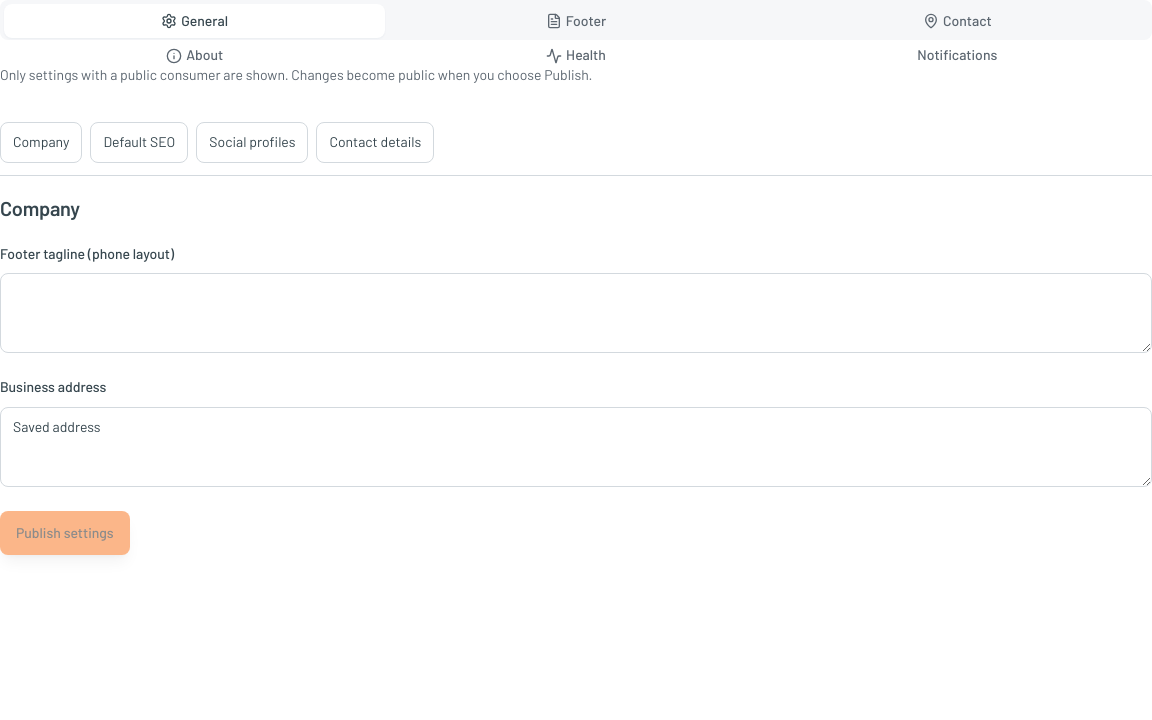
Test: settings save and tab guards › does not claim a settings save succeeded when no row was updated
This screenshot has width=1152, height=720.
Replace the text in the text box labelled "Business address" with "Retained address": (576, 447) [0,407,1151,487]
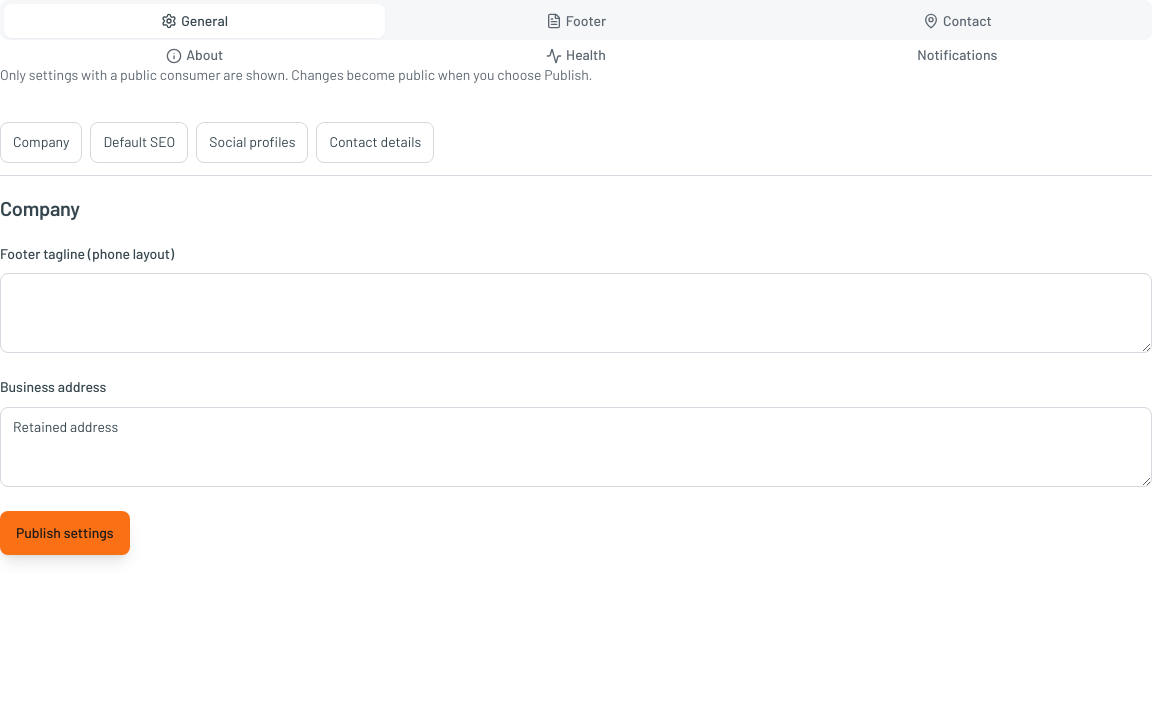
Click the button "Publish settings": click(65, 533) [0,511,130,555]
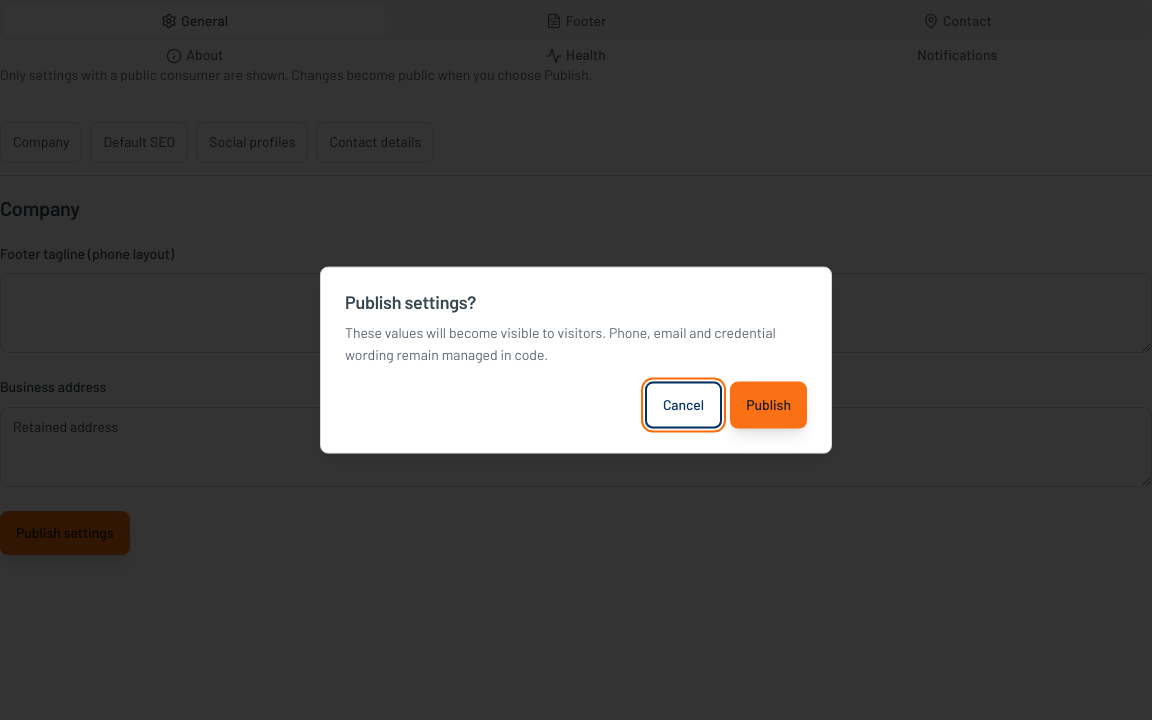
Click the button "Publish": click(769, 405) [730,382,807,428]
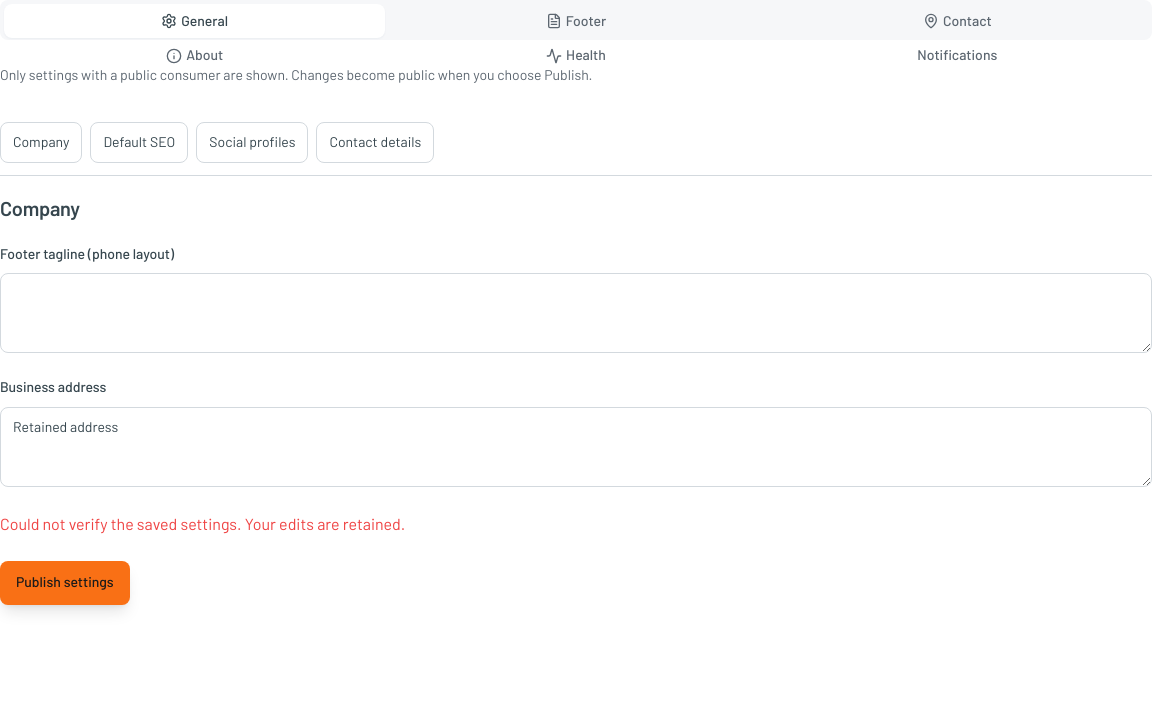
Now the message shows "Could not verify the saved settings", box [0,514,242,533]
Press the mouse on the tab "Contact": (957, 21) [767,4,1148,38]
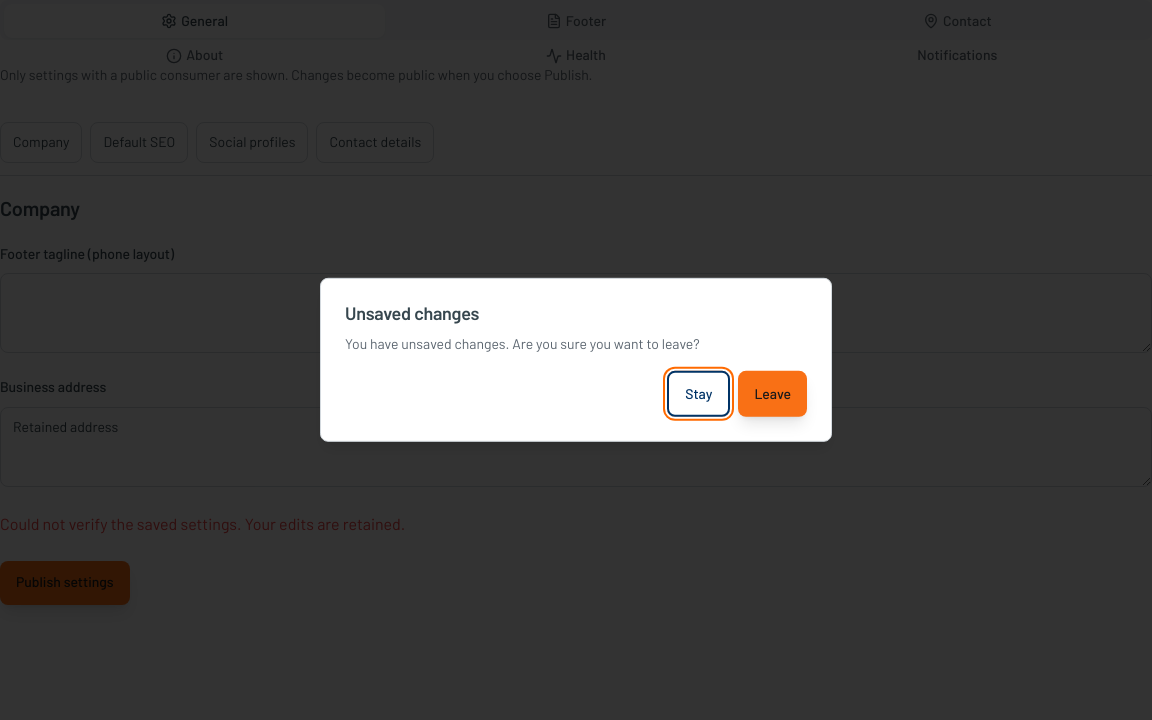
Now the dialog is shown, box [320,278,832,442]
